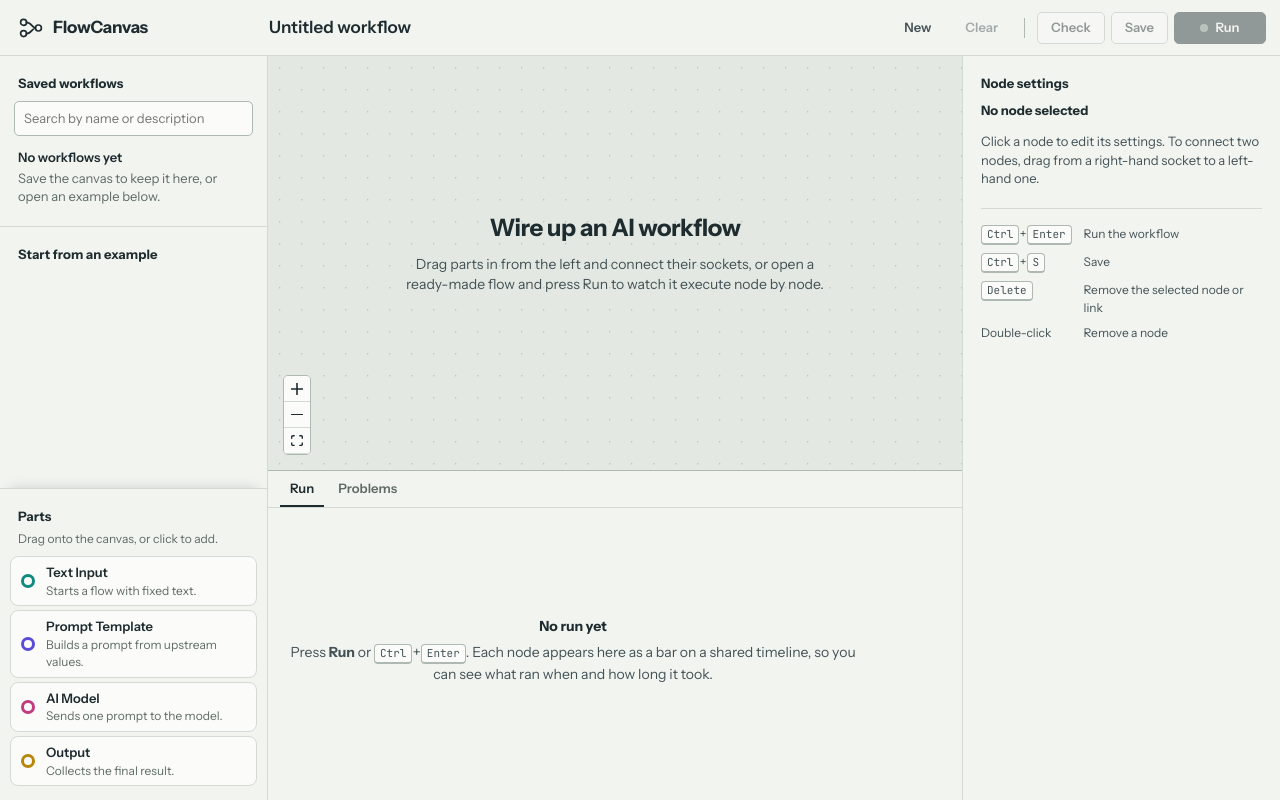
Test: App › lists recent runs after a run and can reopen one
What coordinates should you click on to do the following:
click the button with test id "add-node-TEXT_INPUT"
I would click on:
 (134, 581)
Its box is [10,556,257,606].
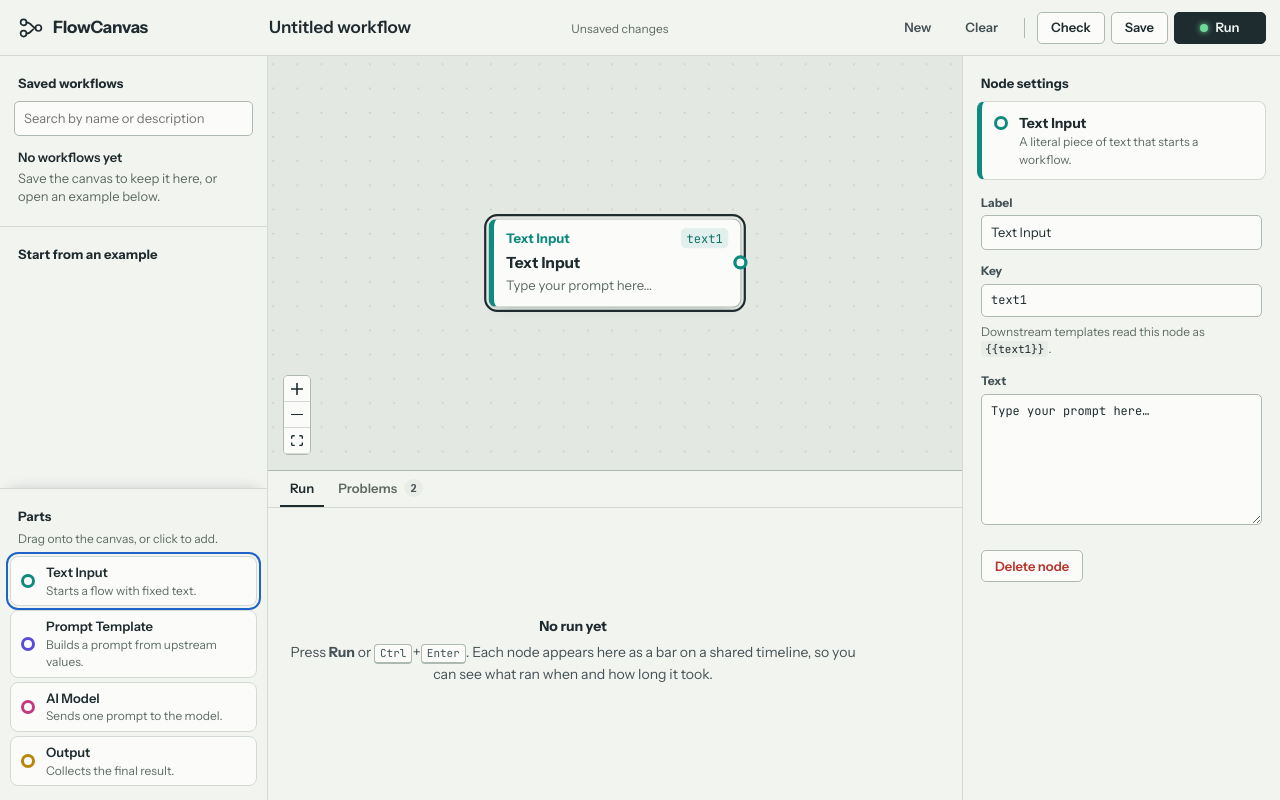
What coordinates should you click on to do the following:
click the button with test id "run-workflow"
I would click on:
 (1220, 28)
Its box is [1174,12,1266,44].
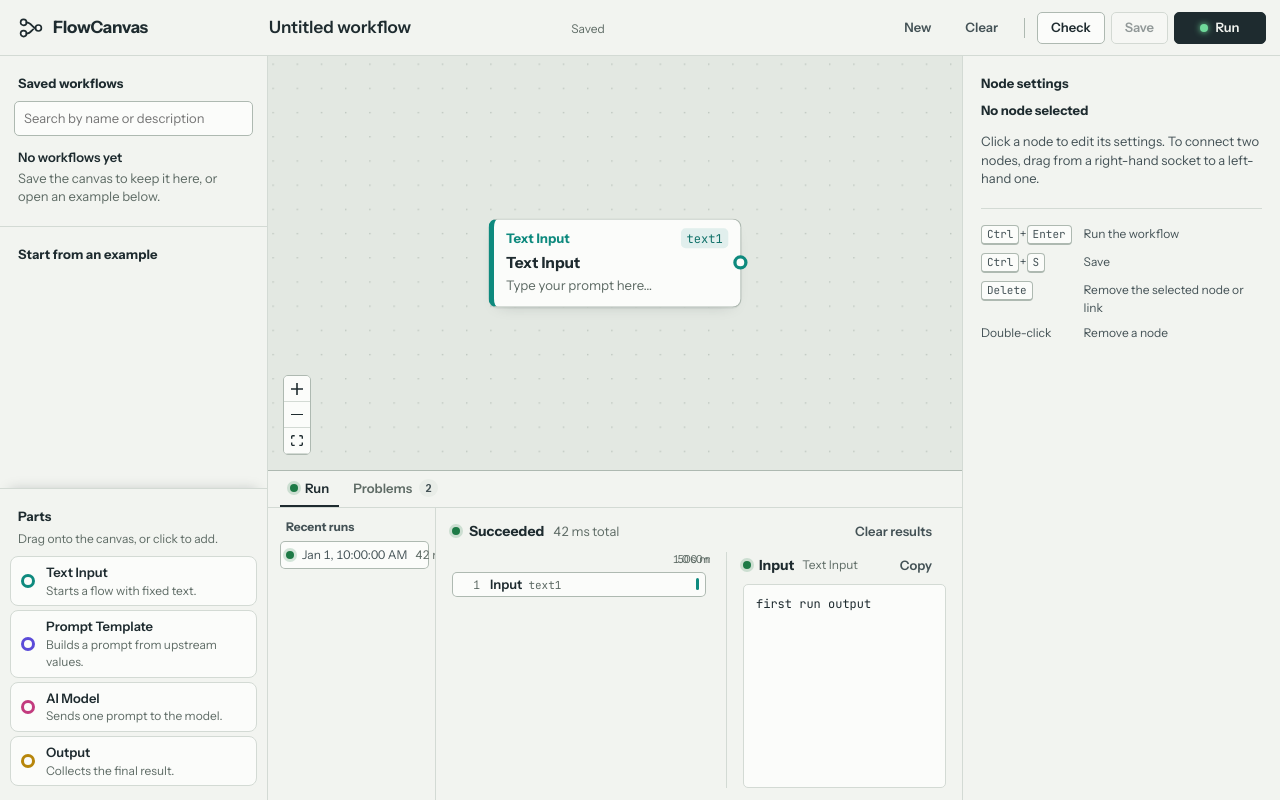
expect the button "Jan 1, 10:00:00 AM 42 ms" is shown: met, box [280,541,429,569]
What coordinates should you click on to do the following:
click the button "Clear results"
I would click on:
 (894, 531)
Its box is [841,518,946,544].
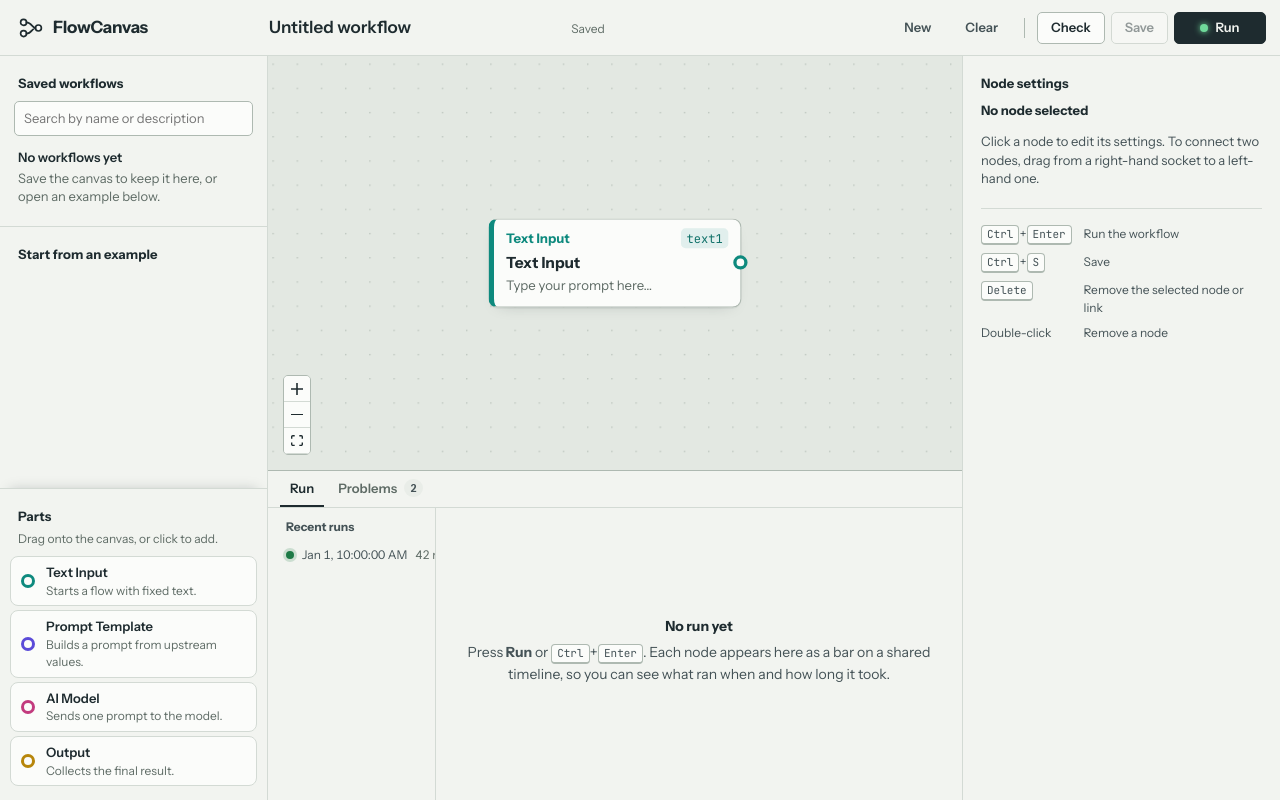
expect the text "first run output" is gone: met
What coordinates should you click on to do the following:
click the button "Jan 1, 10:00:00 AM 42 ms"
I would click on:
 (354, 555)
Its box is [280,541,429,569].
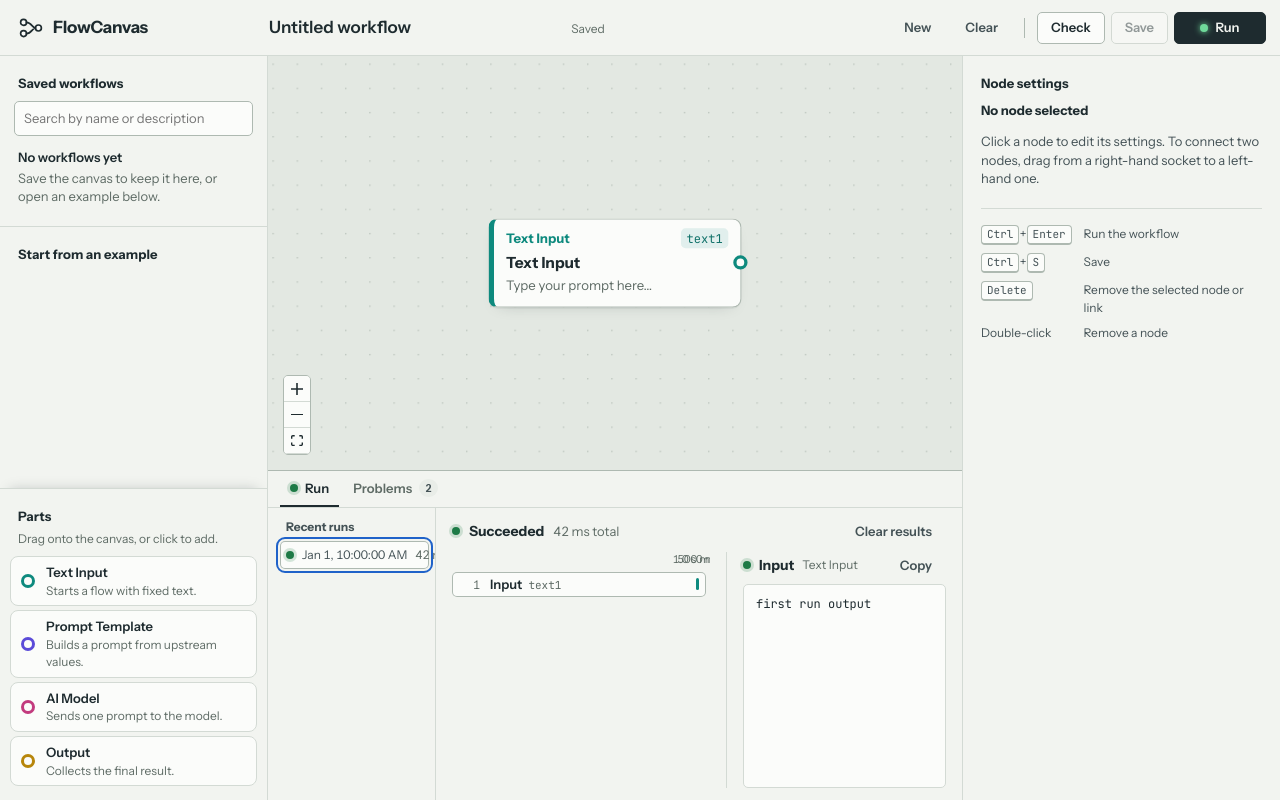
expect the text "first run output" is shown: met, box [743,584,946,788]
